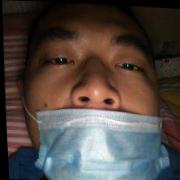WRONG: (18, 10, 165, 178)
